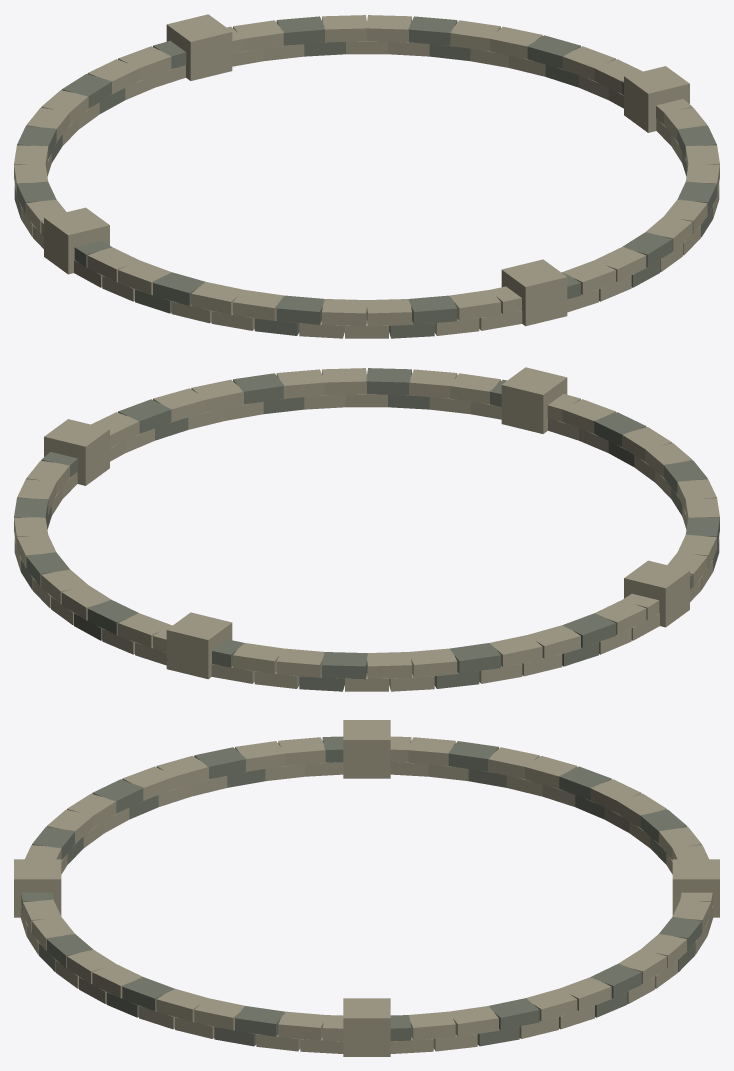
File: LV_BON_CAY_DA_01.glb
3 renders of one model, top to bottom at view 1: azimuth 30°, elevation 25°; view 2: azimuth 150°, elevation 25°; view 3: azimuth 270°, elevation 25°, orthographic.
Visible parts, largest first — view 1: LV_BON_CAY_DA_01-surface-a8a28c, LV_BON_CAY_DA_01-surface-797e70; view 2: LV_BON_CAY_DA_01-surface-a8a28c, LV_BON_CAY_DA_01-surface-797e70; view 3: LV_BON_CAY_DA_01-surface-a8a28c, LV_BON_CAY_DA_01-surface-797e70.
Part boxes in pixels (x1,y1,x2,y2): LV_BON_CAY_DA_01-surface-a8a28c: (14,14,719,338); LV_BON_CAY_DA_01-surface-797e70: (14,16,716,338); LV_BON_CAY_DA_01-surface-a8a28c: (14,367,719,691); LV_BON_CAY_DA_01-surface-797e70: (14,368,719,691); LV_BON_CAY_DA_01-surface-a8a28c: (14,720,719,1056); LV_BON_CAY_DA_01-surface-797e70: (21,736,701,1046).
Size of the model in its own units: 8.64 by 0.52 by 8.64.
